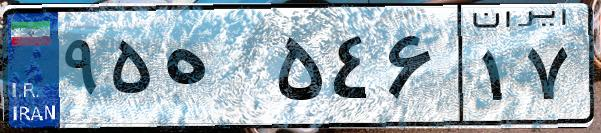1: (475, 38, 525, 113)
4: (330, 28, 385, 110)
5: (270, 28, 330, 110), (110, 28, 158, 98)
6: (385, 28, 445, 110)
7: (525, 38, 570, 115)
9: (57, 26, 110, 100)
ه: (158, 20, 270, 120)
